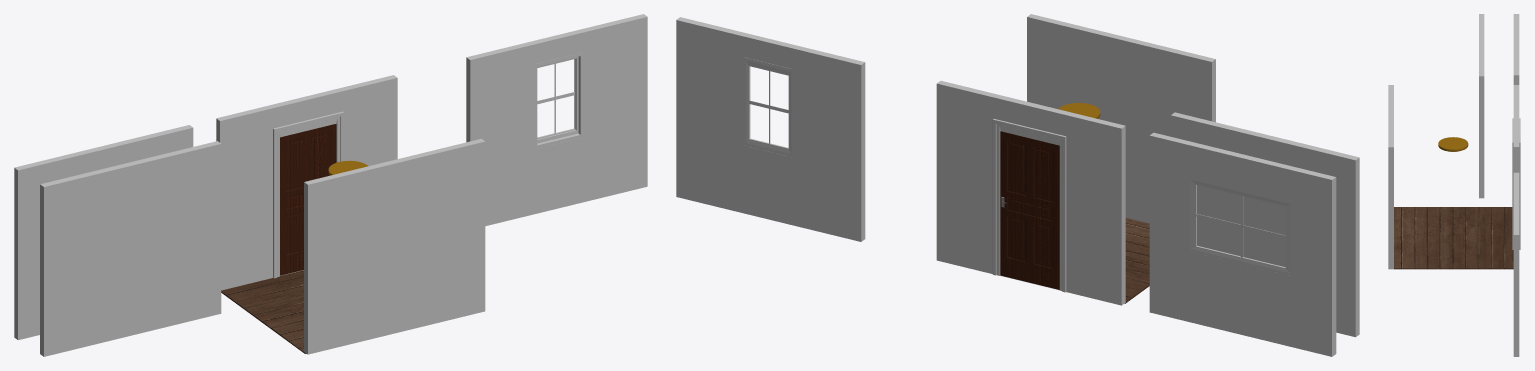
The model's file is house assets.fbx.
The picture shows the model from 3 angles, left to right: view 1: azimuth 30°, elevation 25°; view 2: azimuth 150°, elevation 25°; view 3: azimuth 270°, elevation 25°; orthographic projection. The views are drawn at different scales.
Visible parts, largest first — view 1: wall.001, wall, window wall 2, wall with door frame, window wall, Plane.003, floor and ceilling; view 2: window wall 2, window wall, wall with door frame, wall, wall.001, Plane.003, floor and ceilling; view 3: floor and ceilling, window wall 2, wall, wall.001, wall with door frame, Plane.003, window wall, light.
Boxes of the visible parts, left/top/right/bottom form: wall.001: left=40, top=141, right=221, bottom=356; wall: left=304, top=138, right=485, bottom=354; window wall 2: left=466, top=14, right=647, bottom=226; wall with door frame: left=216, top=75, right=397, bottom=290; window wall: left=14, top=125, right=193, bottom=340; Plane.003: left=273, top=111, right=343, bottom=278; floor and ceilling: left=221, top=270, right=306, bottom=353; window wall 2: left=676, top=17, right=865, bottom=241; window wall: left=1149, top=132, right=1336, bottom=356; wall with door frame: left=936, top=80, right=1125, bottom=305; wall: left=1027, top=14, right=1215, bottom=223; wall.001: left=1171, top=112, right=1359, bottom=337; Plane.003: left=992, top=119, right=1066, bottom=292; floor and ceilling: left=1124, top=218, right=1149, bottom=303; floor and ceilling: left=1394, top=207, right=1513, bottom=269; window wall 2: left=1513, top=172, right=1519, bottom=356; wall: left=1388, top=85, right=1393, bottom=269; wall.001: left=1479, top=14, right=1484, bottom=198; wall with door frame: left=1513, top=85, right=1519, bottom=172; Plane.003: left=1512, top=118, right=1520, bottom=249; window wall: left=1513, top=14, right=1519, bottom=84; light: left=1438, top=137, right=1468, bottom=151.
Size of the model in its own units: 4287 by 1117 by 1085.
